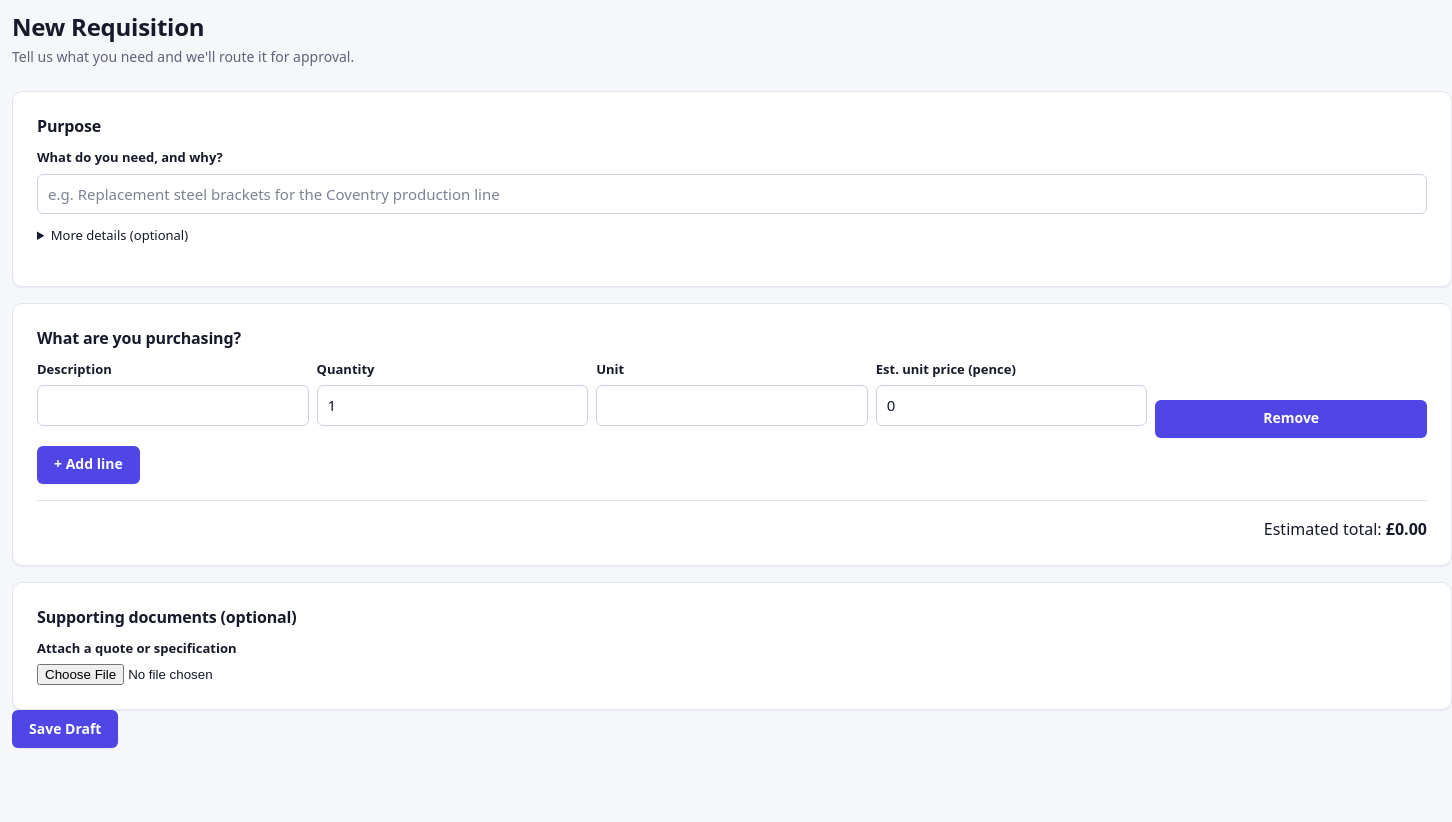
Scenario: NewRequisitionPage (item 6 - the most important screen) › LINE EDITING: adding and removing lines works, and the estimated total updates as a display-only convenience
Later steps or results of the test are not shown.
Type "Steel Brackets" into the field named "Line description" at (173, 405), box [37,385,309,426]
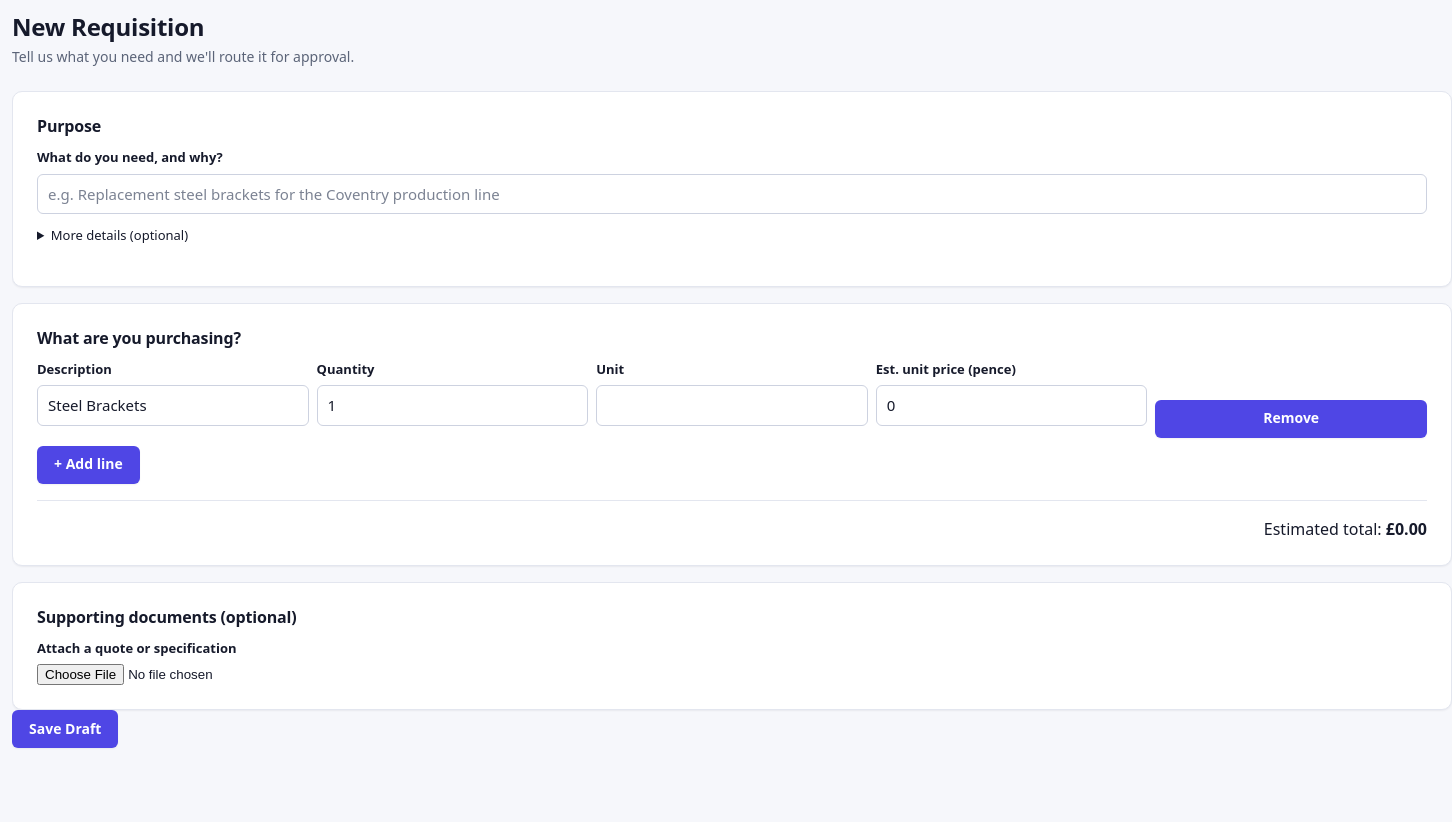
Replace the text in the number field labelled "Quantity" with "10" at (452, 405), box [317,385,588,426]
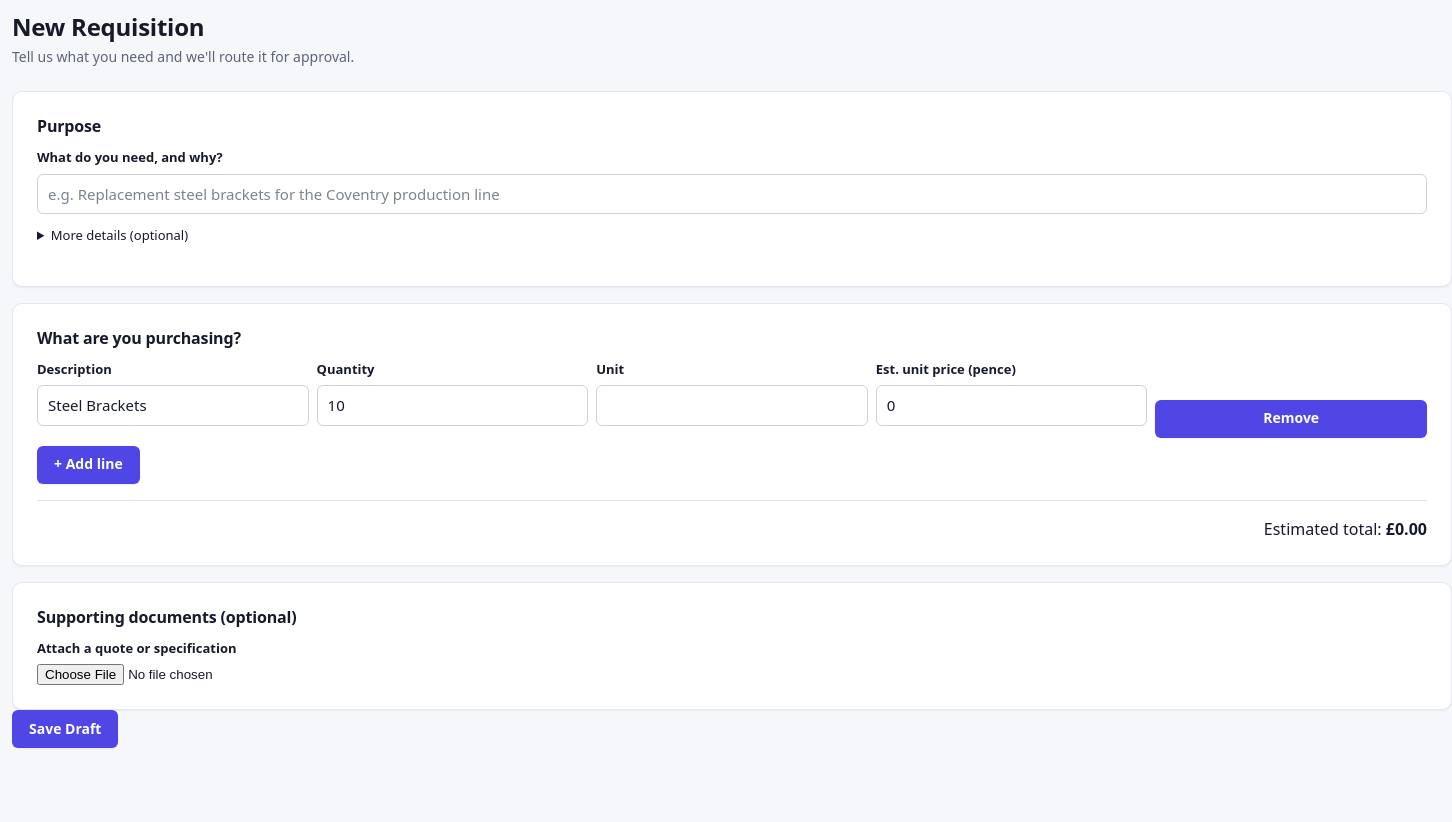
Replace the text in the number field named "Estimated unit price in pence" with "500" at (1012, 405), box [876,385,1147,426]
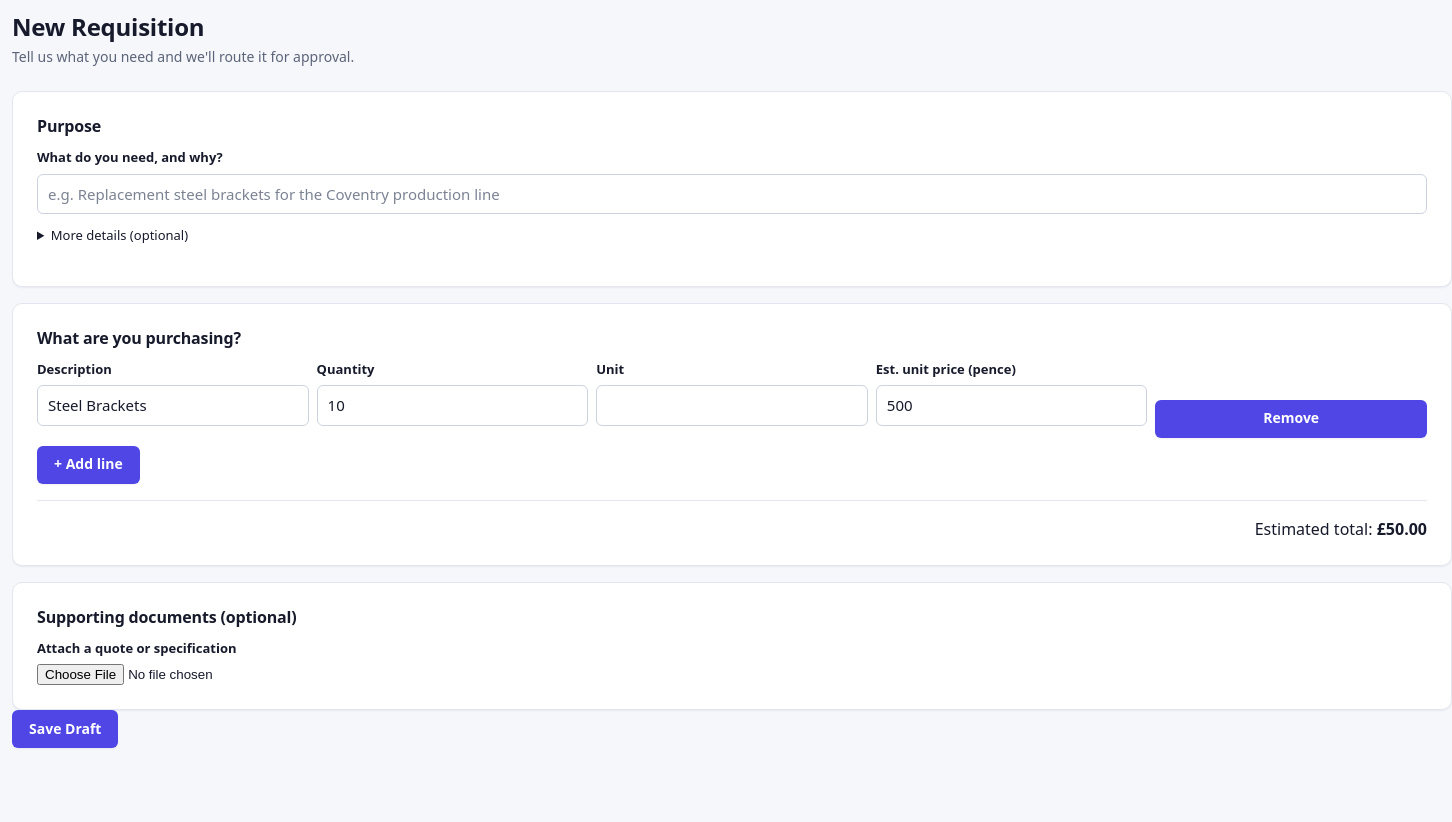
Check: the text "£50.00" is shown, box [1377,518,1427,540]
